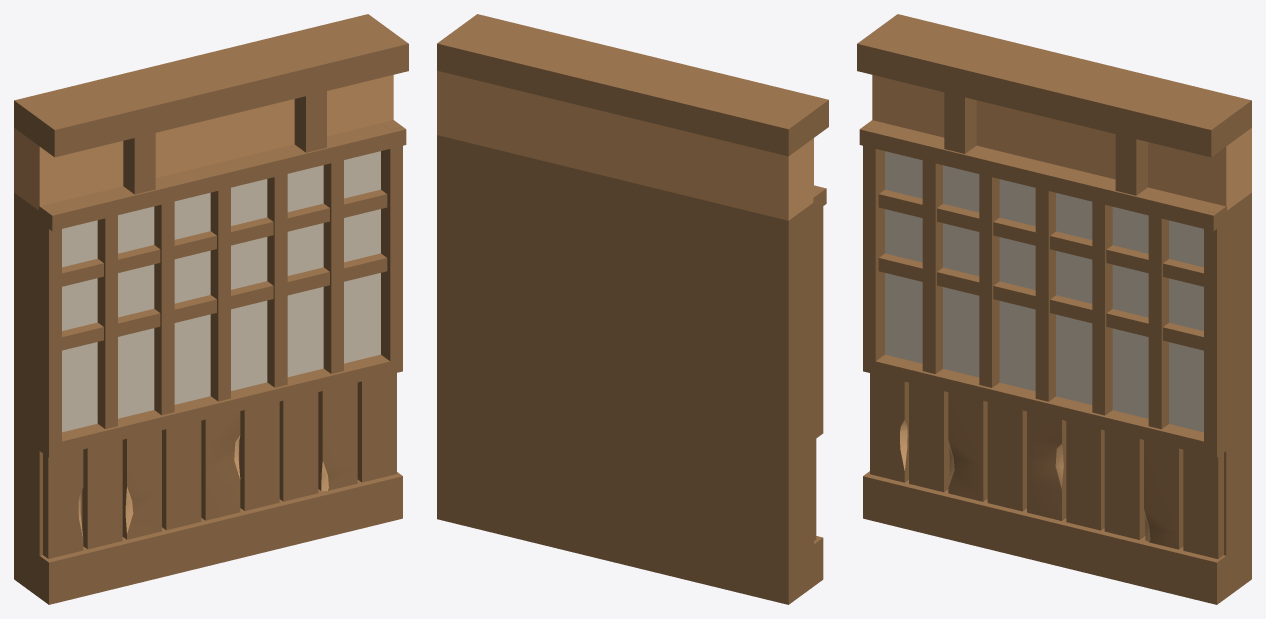
File: Wall Shoji.glb
3 renders of one model, left to right at view 1: azimuth 30°, elevation 25°; view 2: azimuth 150°, elevation 25°; view 3: azimuth 330°, elevation 25°, orthographic.
Visible parts, largest first — view 1: Wall_Shoji; view 2: Wall_Shoji; view 3: Wall_Shoji.
Part boxes in pixels (x1=…): Wall_Shoji: x1=14, y1=14, x2=408, y2=604; Wall_Shoji: x1=437, y1=14, x2=828, y2=604; Wall_Shoji: x1=857, y1=14, x2=1251, y2=604.
Bounding box in the file's own units: 4 × 5.17 × 0.7952.
Materials: 2 (1 with a texture image).
